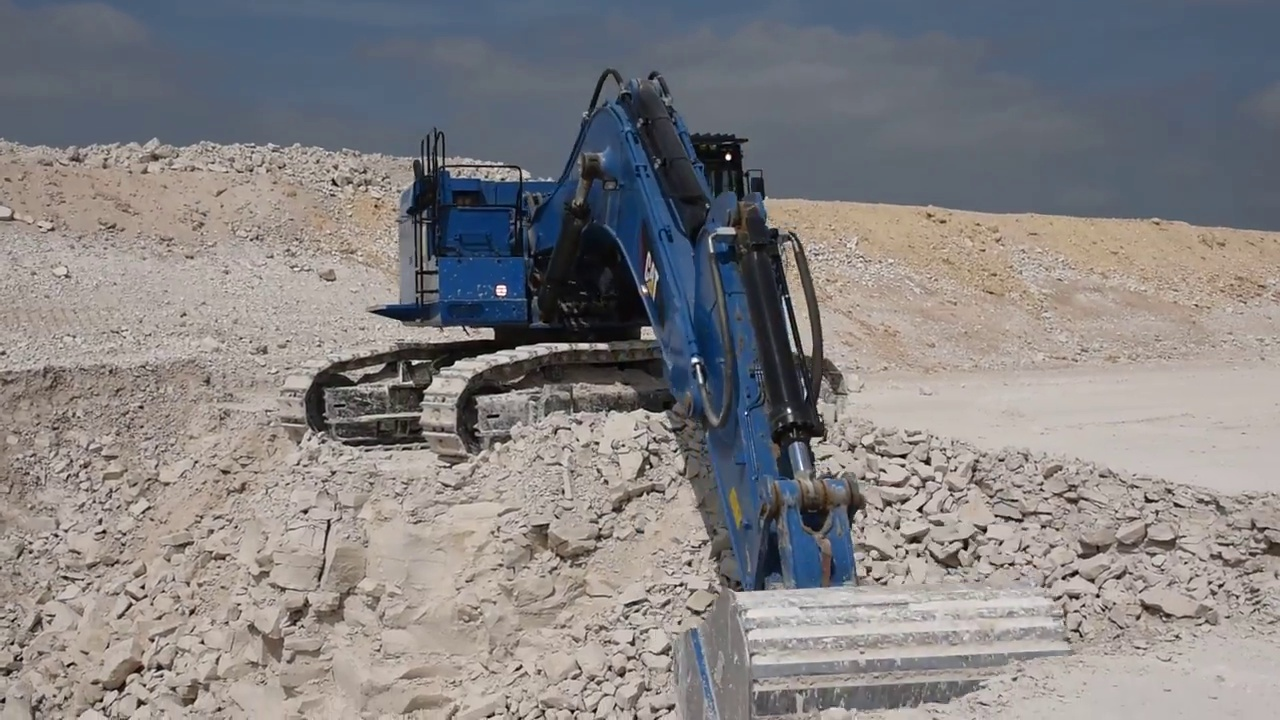excavator: (276, 64, 1075, 720)
